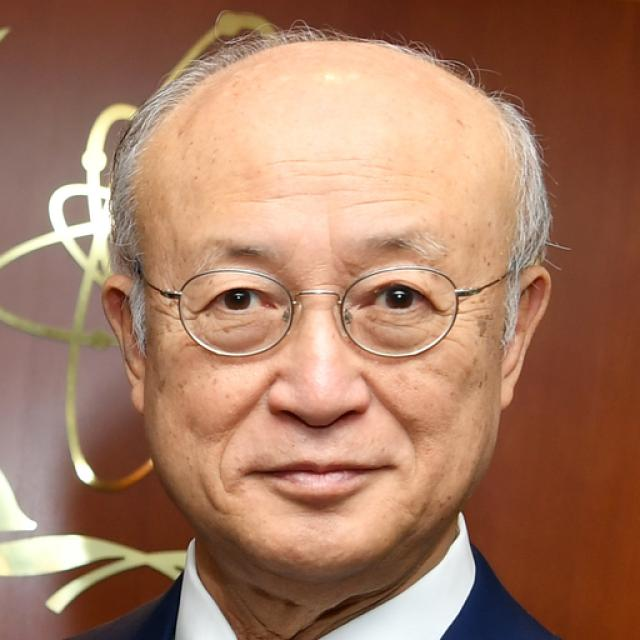Pigmentation: (467, 311, 501, 389), (461, 252, 502, 308)
Wrinkle: (246, 180, 359, 209), (344, 185, 427, 215), (271, 151, 369, 166)
